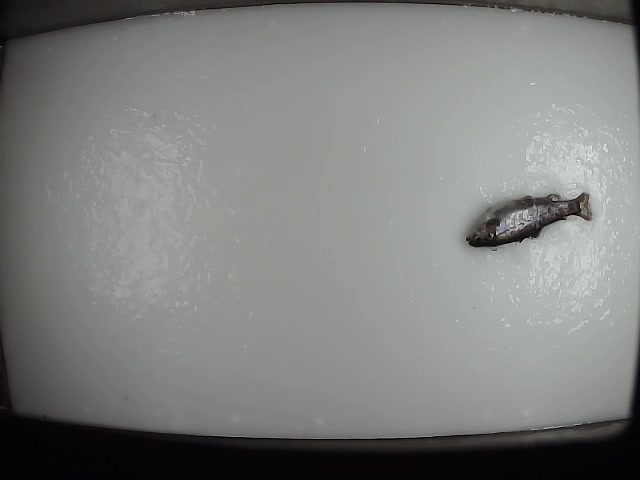fish: (463, 183, 592, 249)
